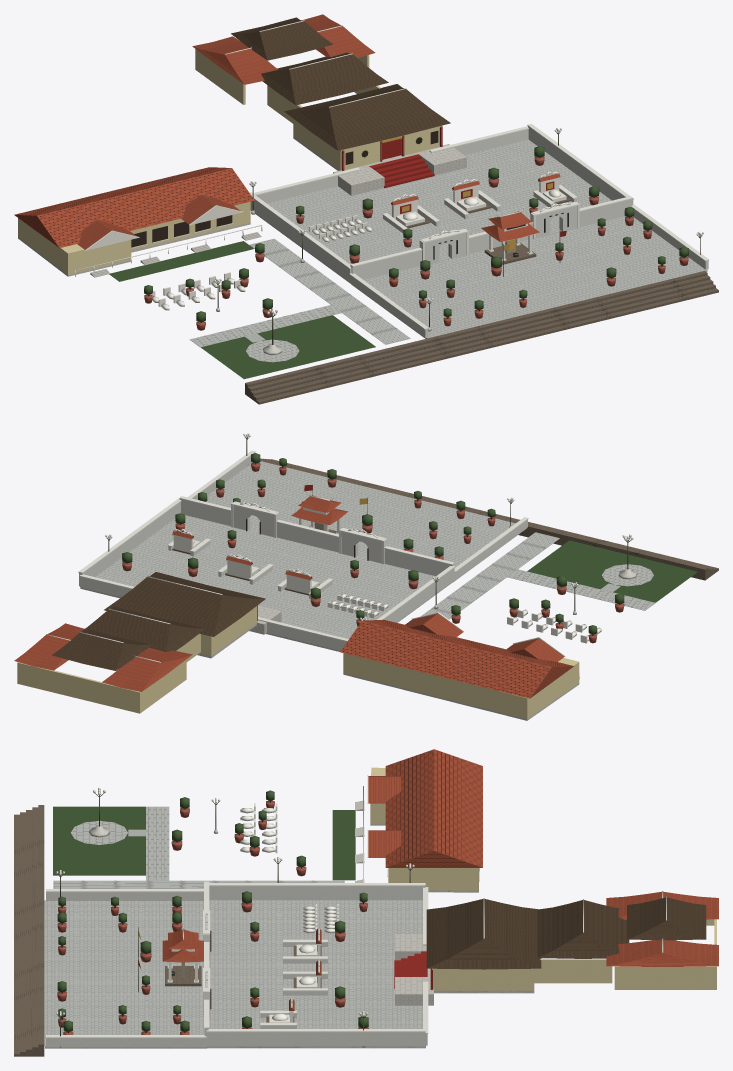
Rendered from thoai-ngoc-hau-mid.glb.
3 views of the same model, one above another, from view 1: azimuth 30°, elevation 25°; view 2: azimuth 150°, elevation 25°; view 3: azimuth 270°, elevation 25° (orthographic). The views are drawn at different scales.
Visible parts, largest first — view 1: thoai-ngoc-hau-mid; view 2: thoai-ngoc-hau-mid; view 3: thoai-ngoc-hau-mid.
Boxes of the visible parts, <box> form: thoai-ngoc-hau-mid: <box>14,14,718,404</box>; thoai-ngoc-hau-mid: <box>14,433,718,720</box>; thoai-ngoc-hau-mid: <box>14,749,718,1056</box>.
Bounding box in the file's own units: 78.12 × 11.39 × 90.75.
1 material, 1 textured.
